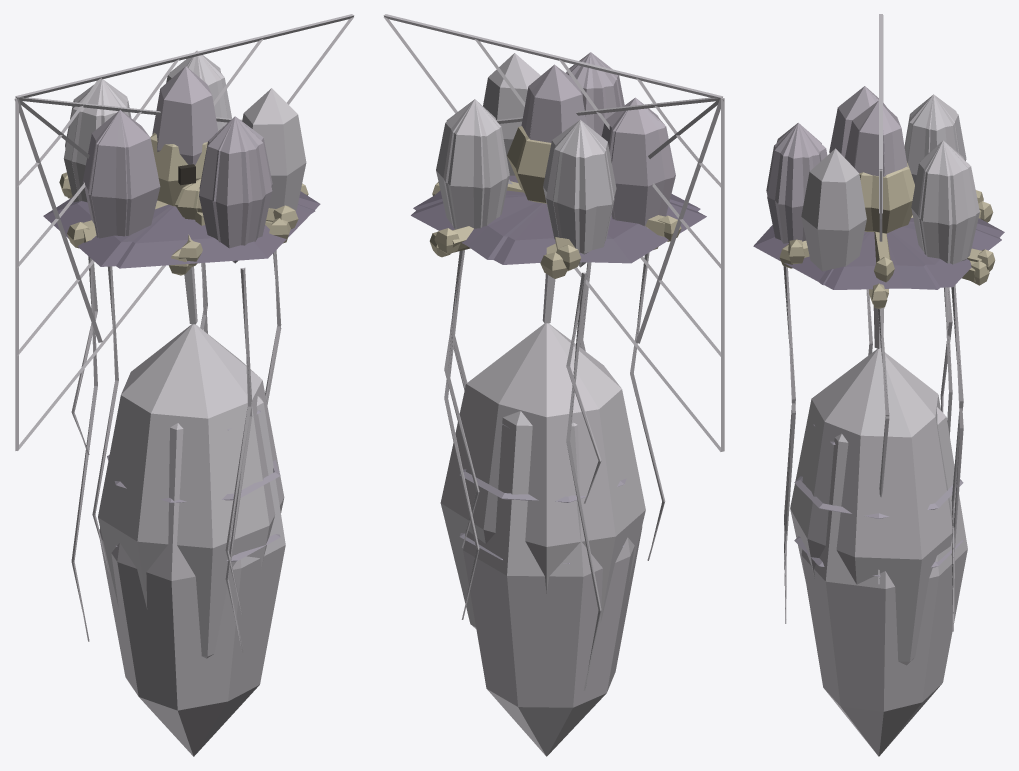
Rendered from nests.glb.
The picture shows the model from 3 angles, left to right: view 1: azimuth 30°, elevation 25°; view 2: azimuth 150°, elevation 25°; view 3: azimuth 270°, elevation 25°; orthographic projection. The views are drawn at different scales.
Parts seen in each view (by area): view 1: nests_wrapped_victim_a, nests_wrapped_victim_b, nests_egg_sac_a, nests_egg_sac_b, nests_cobweb_corner_a, nests_web_strands_b, nests_bone_pile_b, nests_web_strands_a, nests_bone_pile_a; view 2: nests_wrapped_victim_a, nests_wrapped_victim_b, nests_egg_sac_b, nests_egg_sac_a, nests_cobweb_corner_a, nests_web_strands_b, nests_bone_pile_a, nests_web_strands_a, nests_bone_pile_b; view 3: nests_wrapped_victim_a, nests_wrapped_victim_b, nests_egg_sac_b, nests_egg_sac_a, nests_bone_pile_b, nests_web_strands_b, nests_web_strands_a, nests_bone_pile_a, nests_cobweb_corner_a.
Boxes of the visible parts, x1,y1,x2,y2 form: nests_wrapped_victim_a: [98, 266, 284, 658]; nests_wrapped_victim_b: [99, 396, 285, 756]; nests_egg_sac_a: [63, 50, 320, 268]; nests_egg_sac_b: [43, 51, 315, 266]; nests_cobweb_corner_a: [14, 14, 354, 450]; nests_web_strands_b: [71, 250, 281, 641]; nests_bone_pile_b: [67, 132, 290, 275]; nests_web_strands_a: [71, 253, 281, 652]; nests_bone_pile_a: [59, 142, 308, 267]; nests_wrapped_victim_a: [440, 274, 645, 628]; nests_wrapped_victim_b: [463, 411, 642, 756]; nests_egg_sac_b: [413, 53, 706, 266]; nests_egg_sac_a: [411, 52, 700, 267]; nests_cobweb_corner_a: [383, 14, 724, 451]; nests_web_strands_b: [444, 250, 665, 690]; nests_bone_pile_a: [432, 135, 658, 271]; nests_web_strands_a: [444, 250, 601, 619]; nests_bone_pile_b: [429, 126, 681, 278]; nests_wrapped_victim_a: [790, 306, 963, 665]; nests_wrapped_victim_b: [801, 407, 967, 756]; nests_egg_sac_b: [766, 86, 1001, 289]; nests_egg_sac_a: [753, 87, 1004, 289]; nests_bone_pile_b: [779, 169, 993, 285]; nests_web_strands_b: [783, 267, 963, 590]; nests_web_strands_a: [783, 266, 963, 631]; nests_bone_pile_a: [788, 161, 995, 308]; nests_cobweb_corner_a: [879, 14, 883, 241].
Size of the model in its own units: 0.8666 by 1.71 by 0.591.
